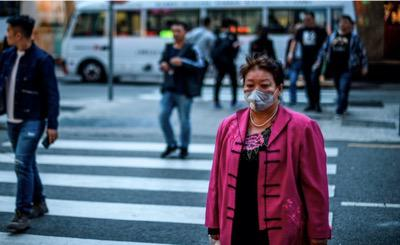with_mask: (243, 76, 275, 113)
without_mask: (4, 25, 15, 46), (171, 27, 183, 41), (303, 15, 313, 27), (339, 20, 349, 31)
